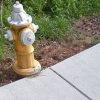Hydrant: (5, 2, 49, 81)
